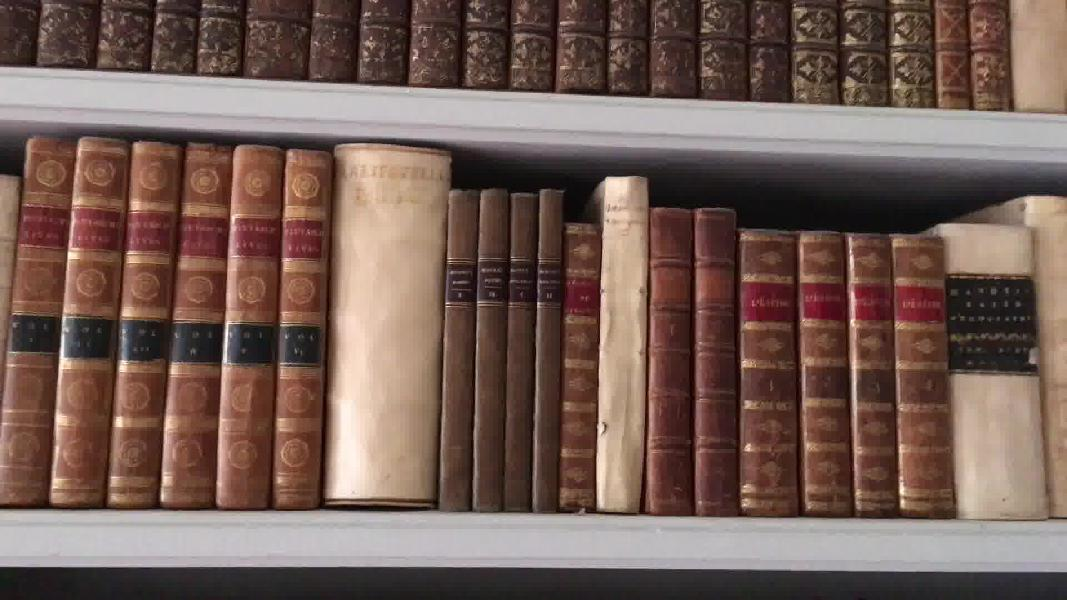Kk4-14: (331, 137, 452, 509)
Kk4-15_16: (438, 184, 510, 517)
Kk4-17_18: (508, 189, 565, 514)
Kk4-19: (559, 217, 604, 514)
Kk4-20: (595, 173, 650, 517)
Kk4-21_22: (645, 200, 742, 517)
Kk4-23_26: (737, 227, 956, 523)
Kk4-27: (942, 225, 1052, 526)
Kk4-8_13: (1, 126, 332, 514)
